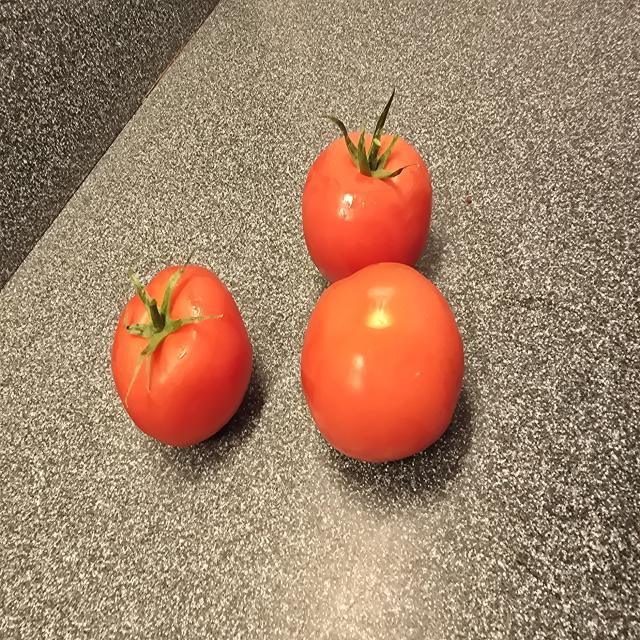Tomato: (301, 263, 464, 462), (112, 265, 252, 446), (302, 91, 432, 283)
